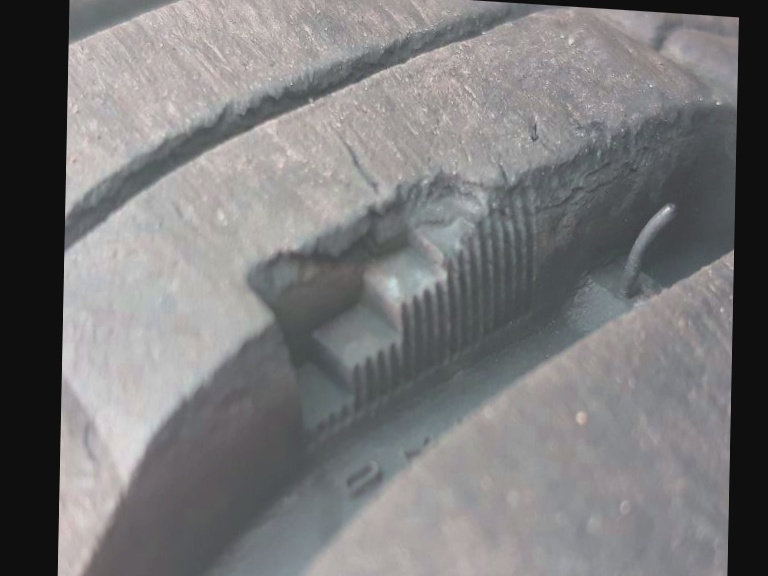temoin:80: (227, 120, 553, 479)
